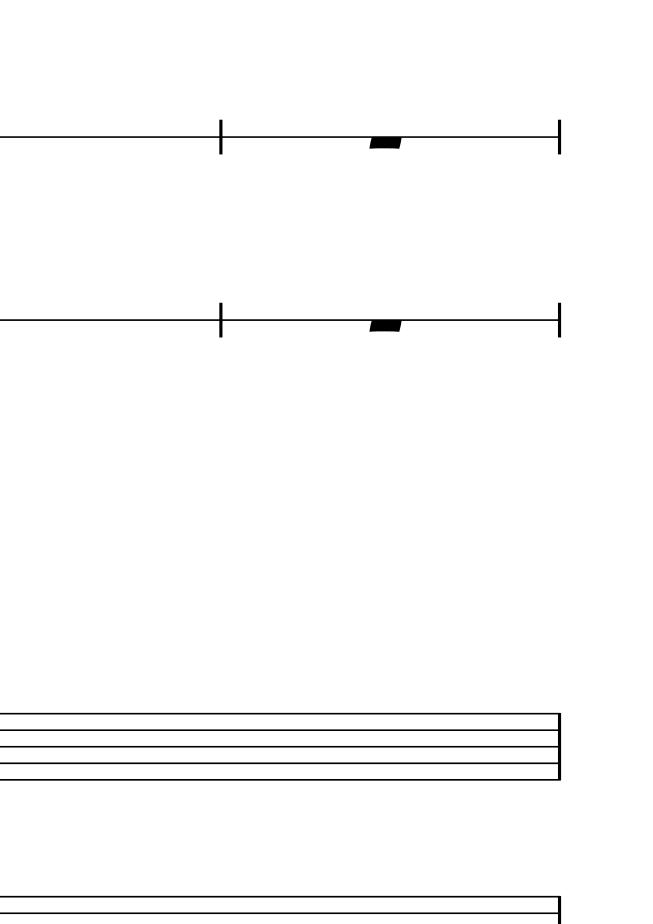Rests1: (365, 316, 406, 336), (365, 132, 403, 152)
Single_barline: (551, 714, 567, 780)
